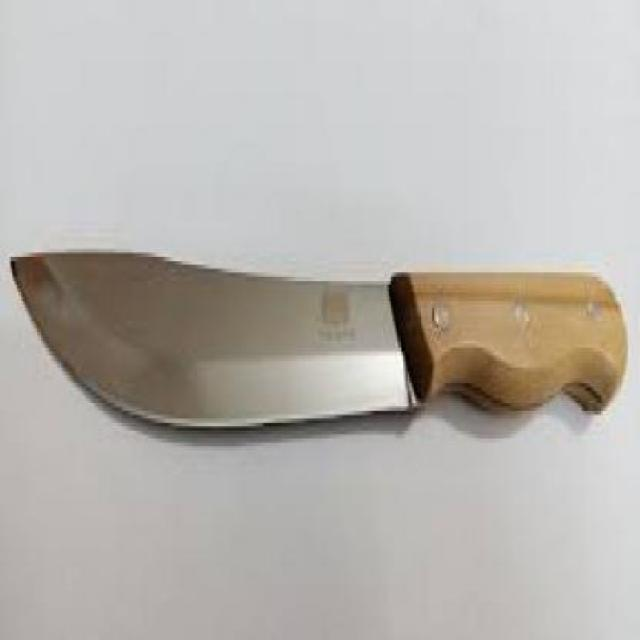-: (12, 123, 403, 582)
